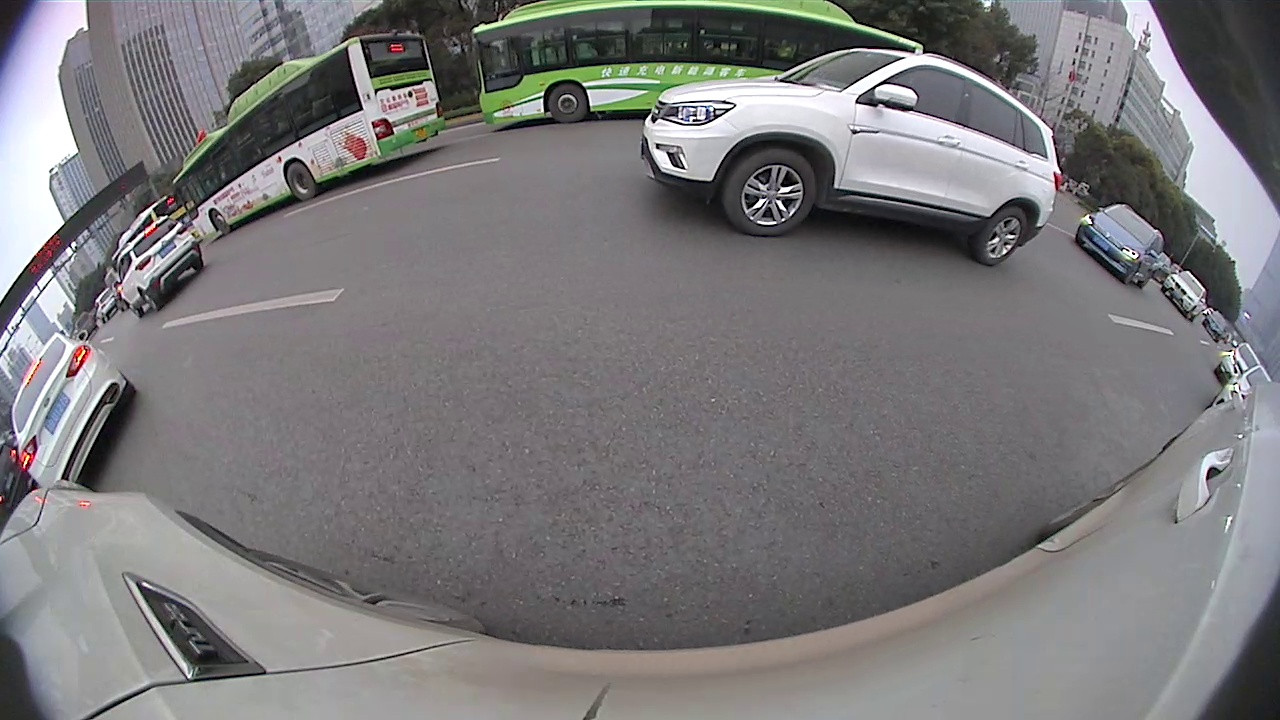bus: (167, 25, 451, 245), (471, 1, 928, 134)
car: (638, 45, 1067, 269), (9, 330, 140, 493), (115, 211, 206, 321), (1076, 201, 1166, 288)
front: (725, 145, 820, 237), (547, 83, 589, 123), (209, 208, 229, 238)
rear: (976, 201, 1027, 267), (283, 161, 318, 202)
